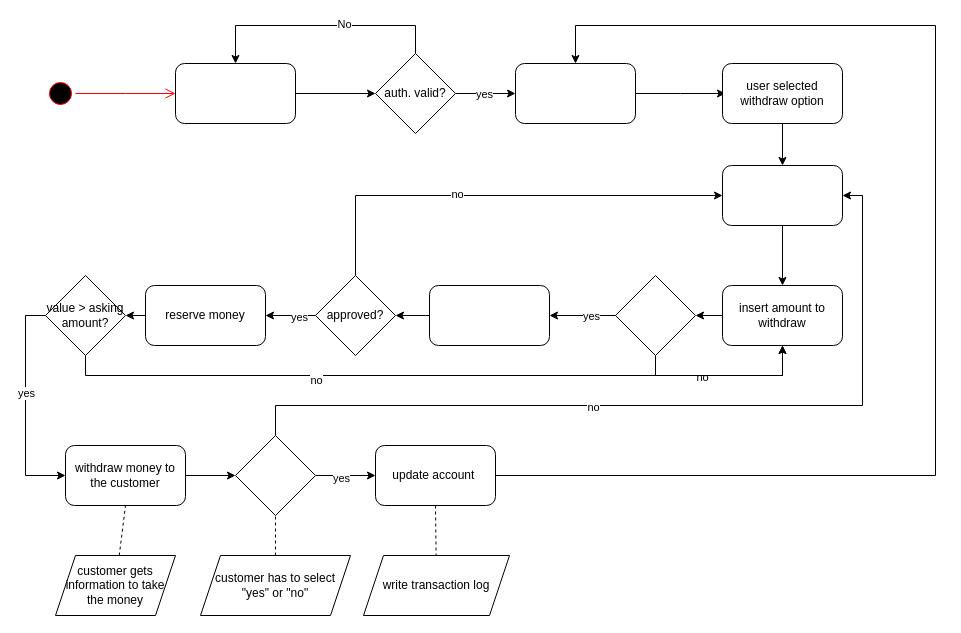
Image size: 961x633. Some labels were removed from this diagram. Here are the shapes that lost their labels. From the top down, the centre of each, then its label:
At (x=235, y=93): "User authenticates".
At (x=575, y=93): "show user interface".
At (x=782, y=195): "show withdraw interface".
At (x=489, y=315): "approve customers withdrw amount".
At (x=655, y=315): "amount modulo 10?".
At (x=275, y=475): "customer took money?".
